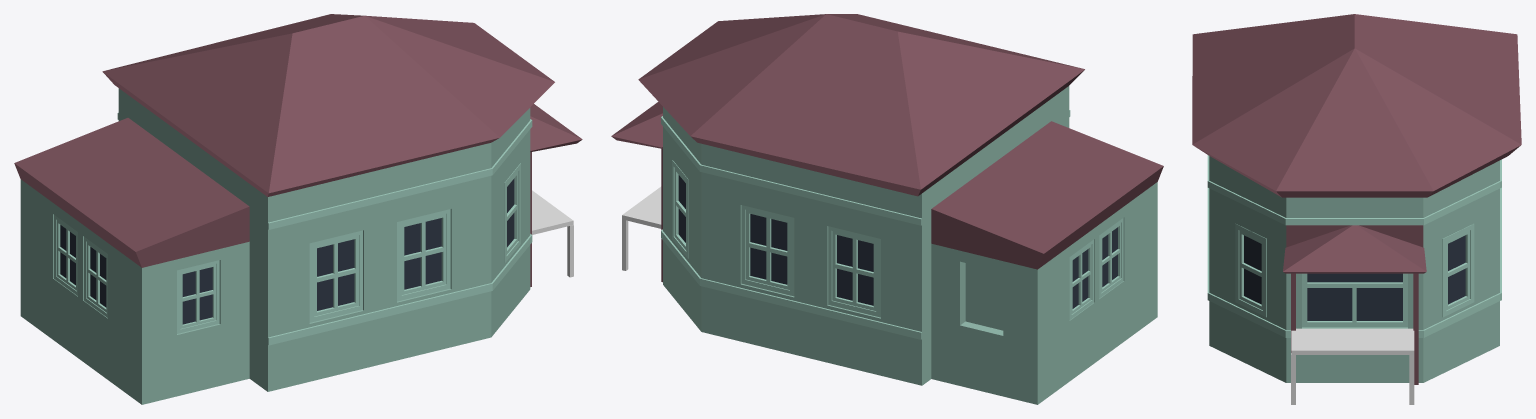
Rendered from Buildings_031.fbx.
3 views of the same model, side by side, from view 1: azimuth 30°, elevation 25°; view 2: azimuth 150°, elevation 25°; view 3: azimuth 270°, elevation 25° (orthographic). The views are drawn at different scales.
Visible parts, largest first — view 1: Buildings.031; view 2: Buildings.031; view 3: Buildings.031.
Boxes of the visible parts, left/top/right/bottom form: Buildings.031: left=14, top=14, right=582, bottom=404; Buildings.031: left=611, top=14, right=1163, bottom=404; Buildings.031: left=1192, top=14, right=1521, bottom=404.
Bounding box in the file's own units: 8.65 × 4.96 × 5.43.
